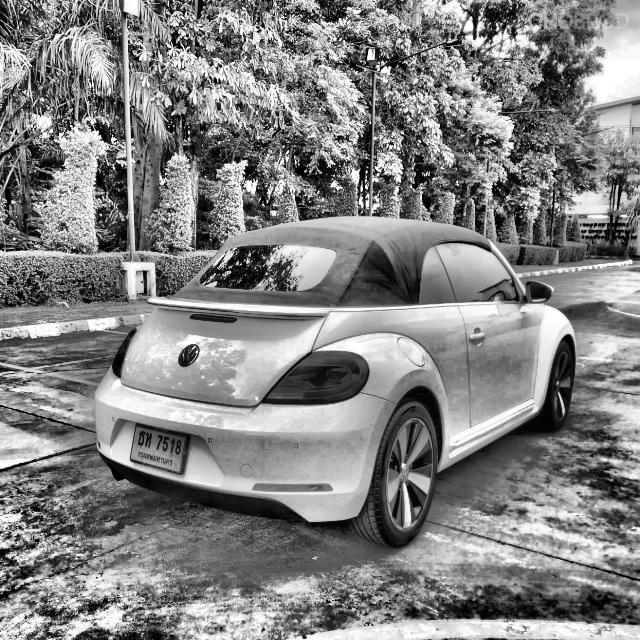license-plate: (130, 419, 191, 478)
